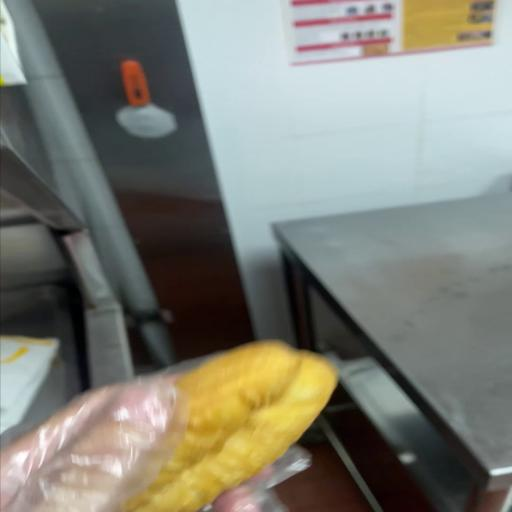brand_golden_good: (119, 339, 336, 512)
